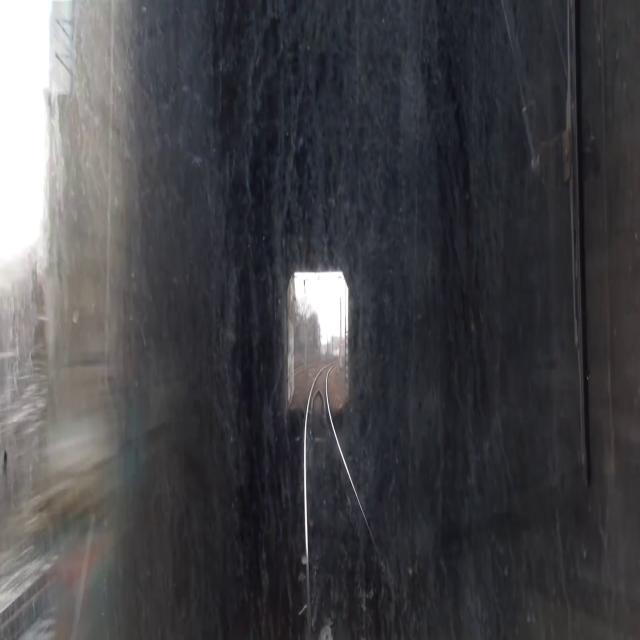rail-track: (342, 464, 410, 639), (314, 394, 356, 627), (307, 424, 347, 639), (314, 369, 327, 393)
